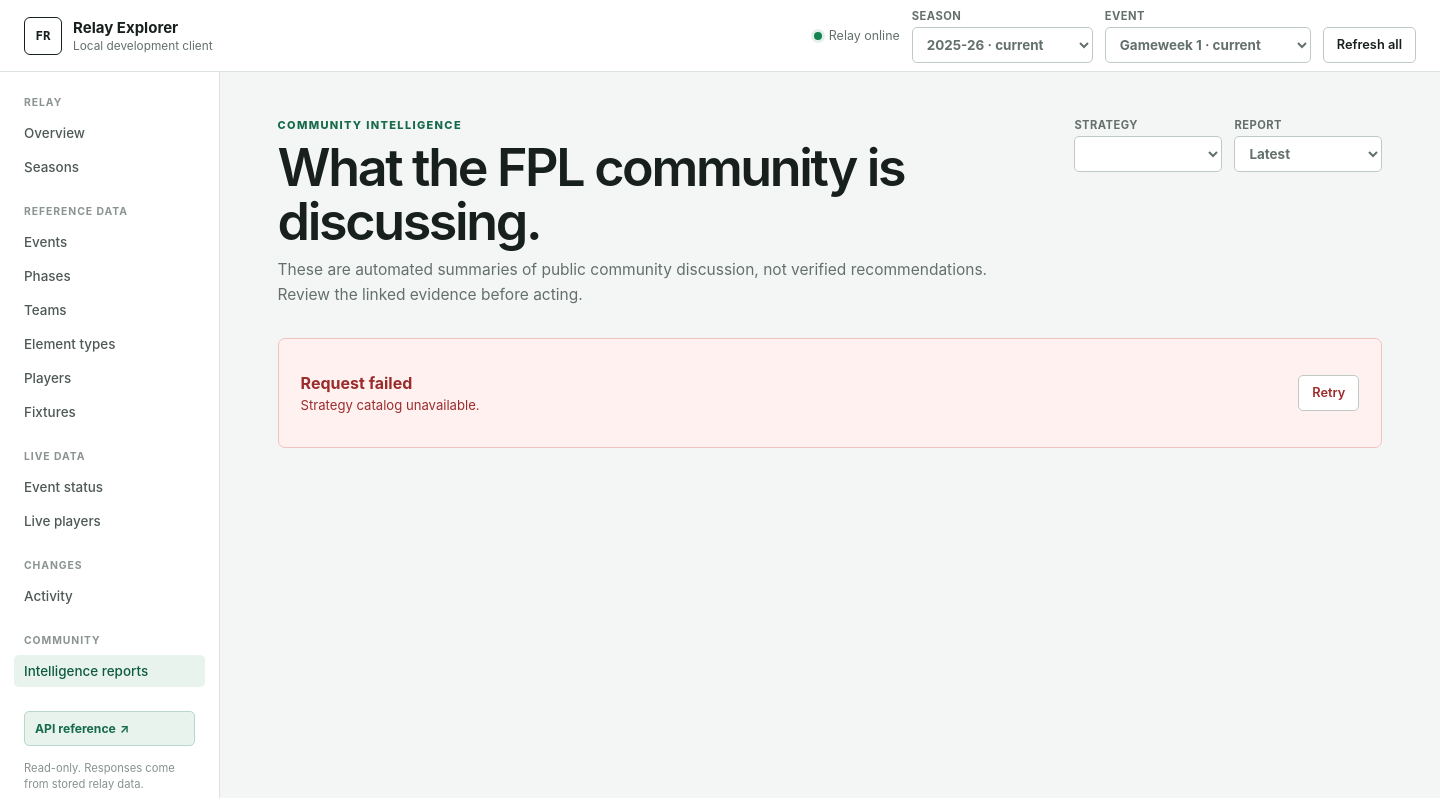
Scenario: relay explorer application › recovers requests and ignores invalid report IDs
Expected: the text "Request failed" is shown, [301,373,412,393]
What coordinates should you click on to do the following:
click the button "Retry"
I would click on:
 (1329, 393)
Its box is [1298,375,1359,411].
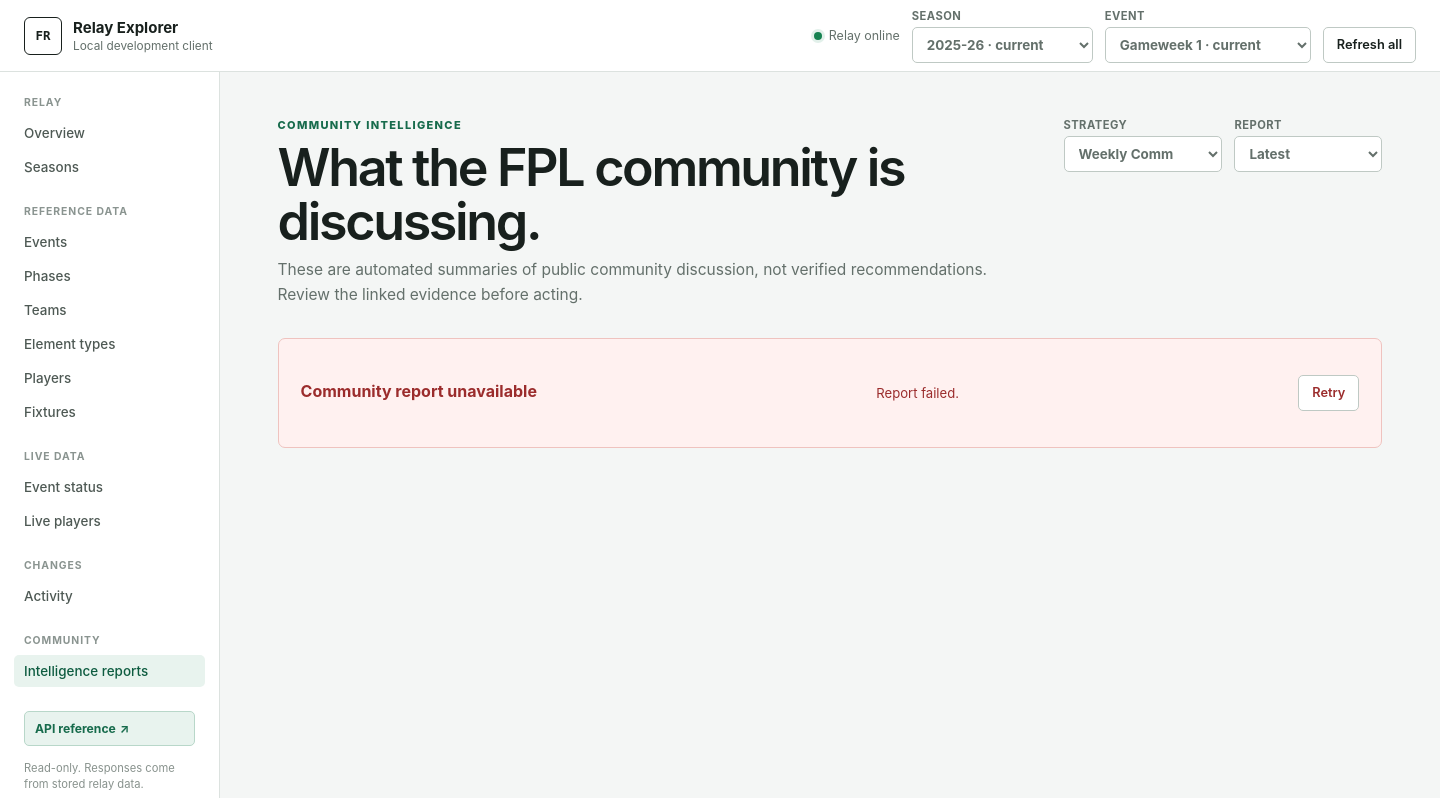
Now the text "Community report unavailable" is shown, box [301,381,537,401]
What coordinates should you click on to do the following:
click the button "Retry"
I would click on:
 (1329, 393)
Its box is [1298,375,1359,411].
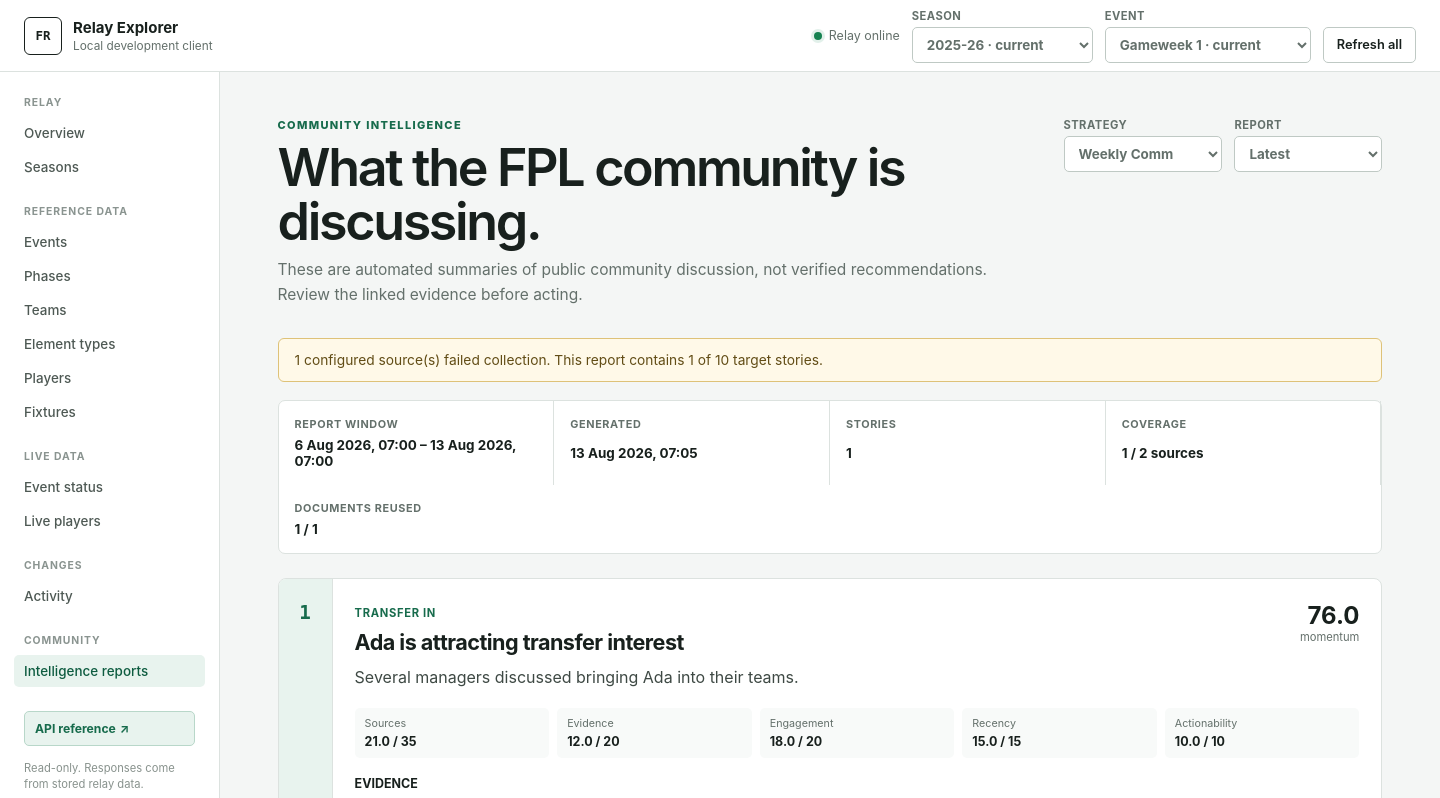
Now the heading "Ada is attracting transfer interest" is shown, box [355,629,684,655]
